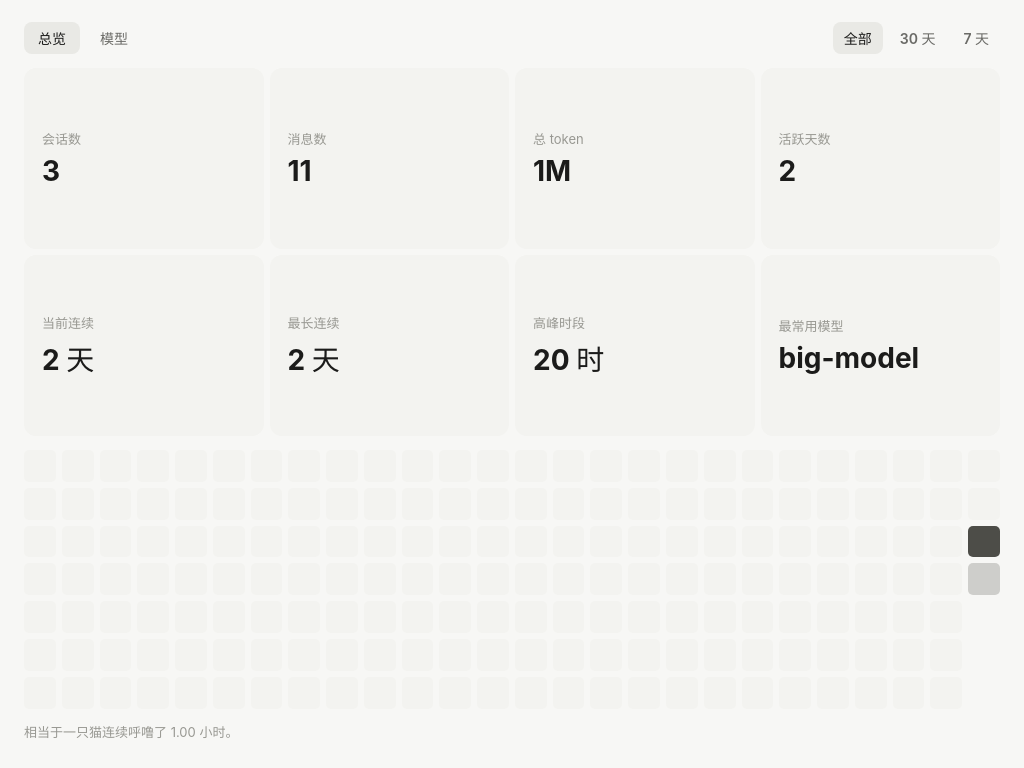
Test: UsageStatsCard › thins the date labels instead of stacking them on top of each other
The width and height of the screenshot is (1024, 768).
Click the tab "模型" at (114, 38), box [86,22,142,54]
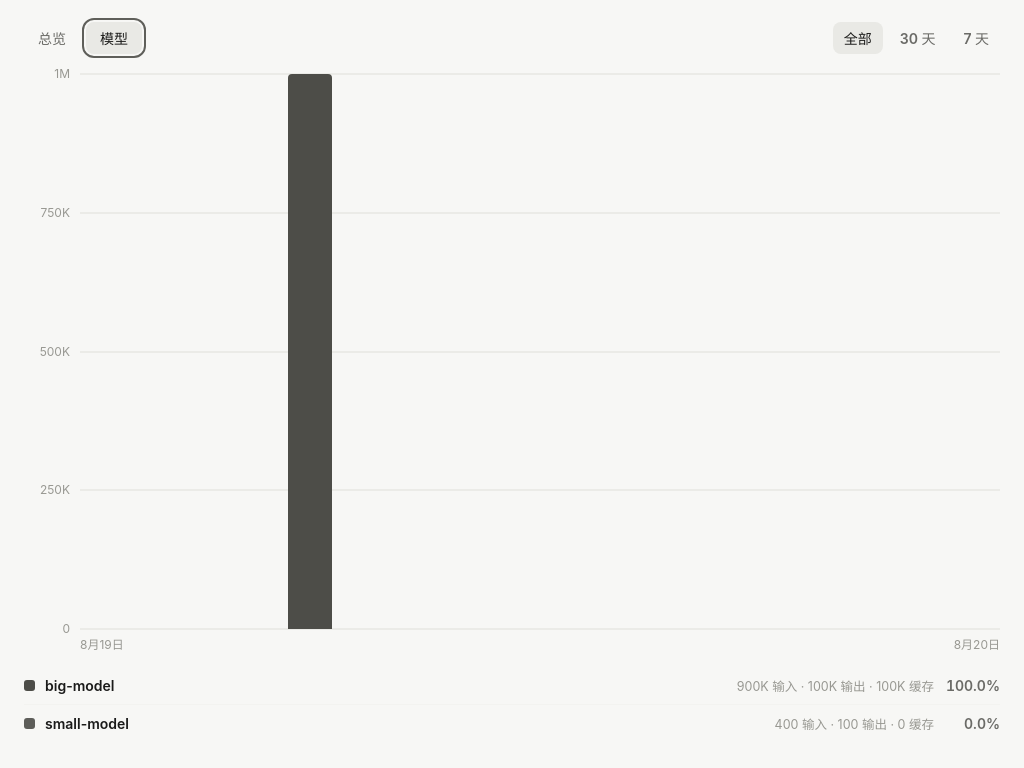
Click the button "30 天" at (918, 38), box [889,22,946,54]
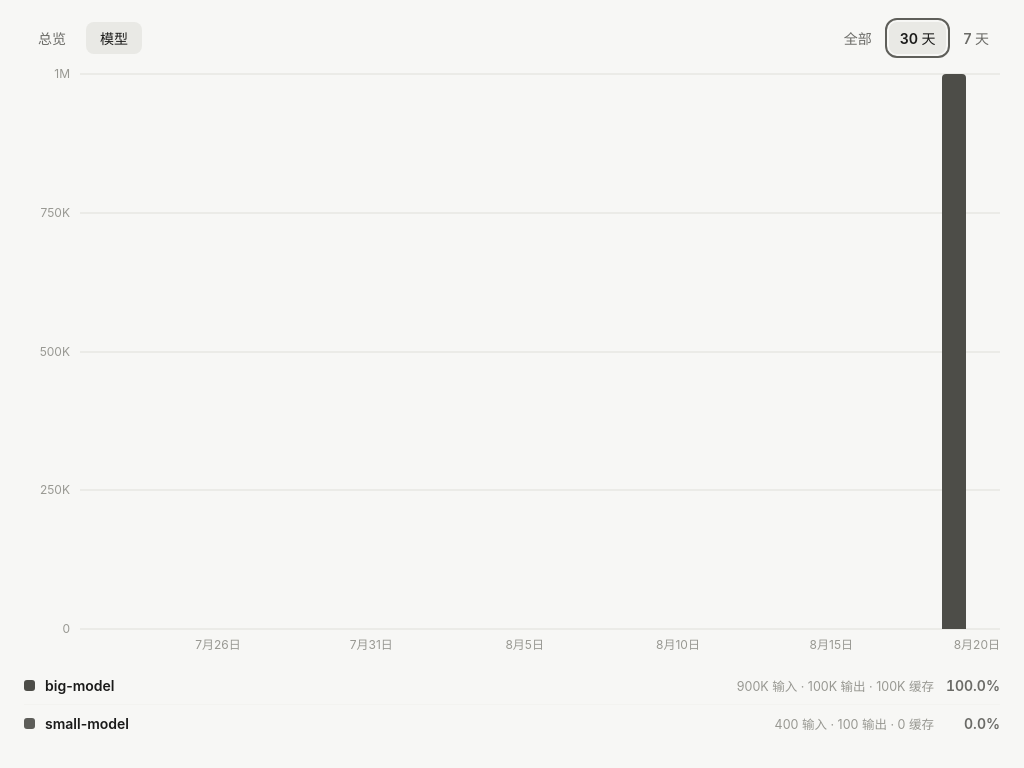
expect the text with class "usage-stats__chart-day" reads "8月20日": met, box [954,637,1000,652]
expect the number of elements with class "usage-stats__chart-column" is 30: met
